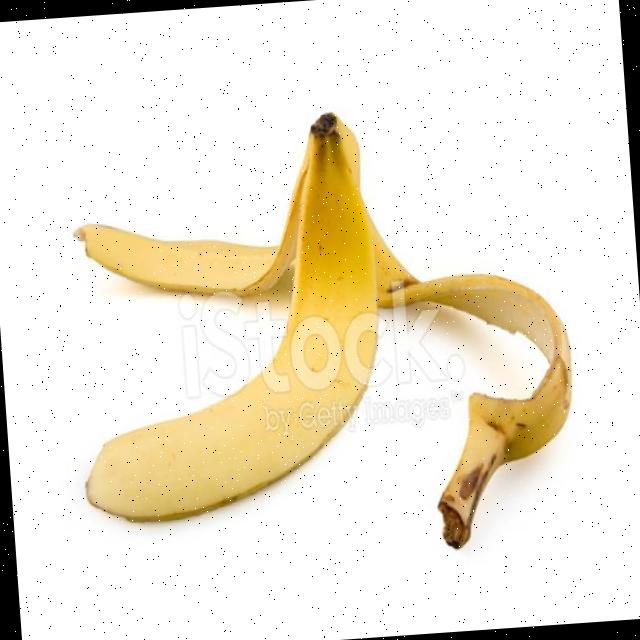banana-peel: (58, 94, 584, 575)
